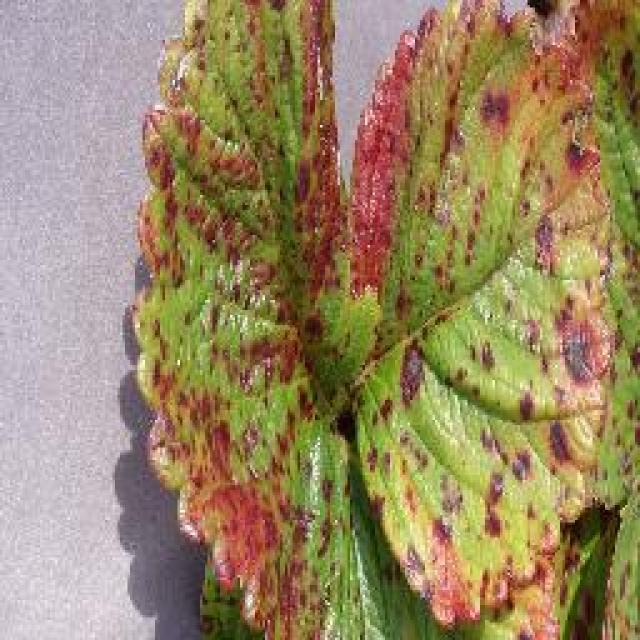Strawberry leaf scorch: (100, 7, 622, 638)
